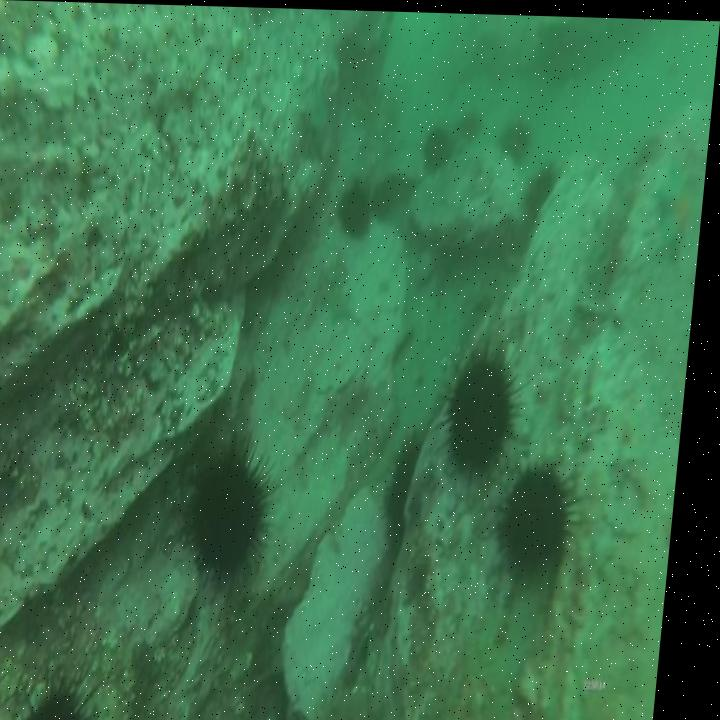echinus: (184, 427, 293, 599), (441, 333, 539, 484), (498, 447, 597, 591), (388, 424, 438, 566), (26, 663, 128, 720), (337, 172, 380, 240), (523, 157, 564, 228), (494, 111, 539, 167), (420, 117, 461, 176), (369, 174, 401, 219), (454, 105, 489, 145)
starfish: (651, 152, 704, 255)
